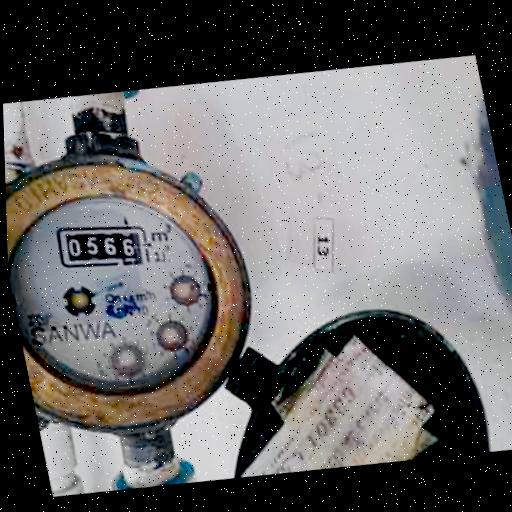0: (63, 229, 87, 262)
5: (79, 229, 104, 262)
6: (114, 227, 144, 267), (97, 229, 122, 262)
border_water_meter_number: (52, 210, 153, 279)
